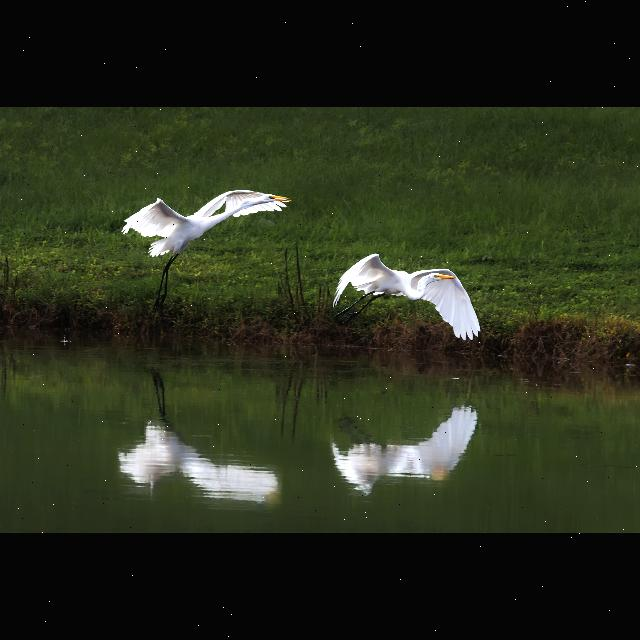egret: (118, 184, 298, 318), (320, 251, 484, 349)
